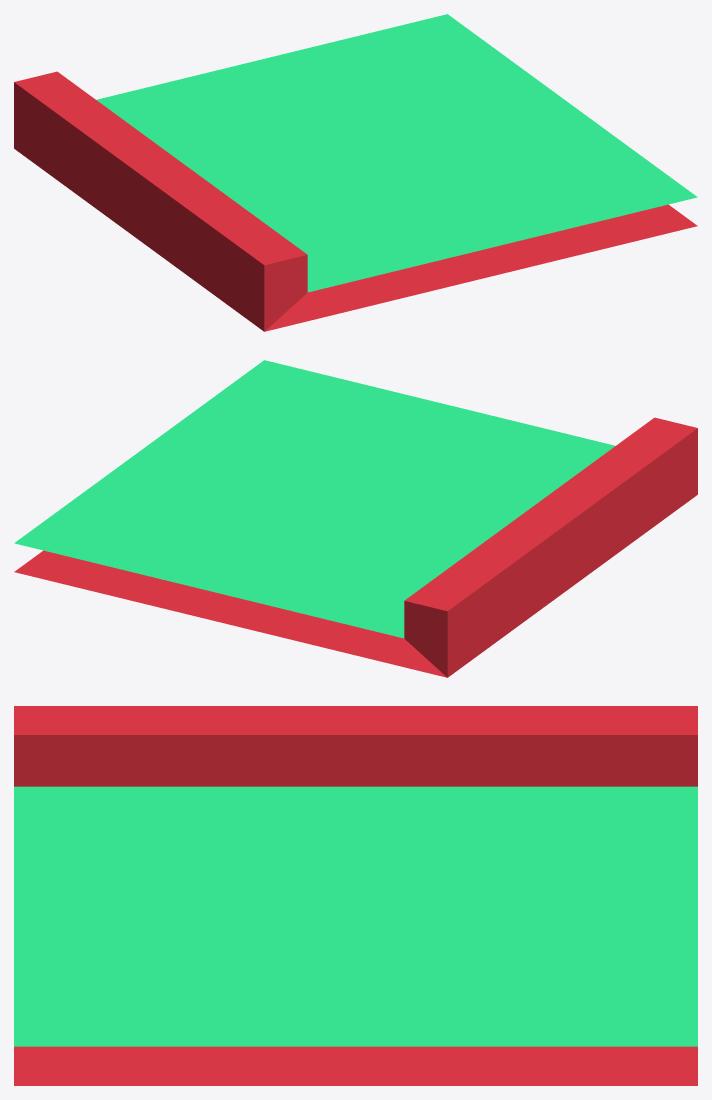
Rendered from side.fbx.
3 renders of one model, top to bottom at view 1: azimuth 30°, elevation 25°; view 2: azimuth 150°, elevation 25°; view 3: azimuth 270°, elevation 25°, orthographic. The views are drawn at different scales.
Visible parts, largest first — view 1: side; view 2: side; view 3: side.
Part boxes in pixels (left/top/right/bottom): side: left=14, top=14, right=697, bottom=331; side: left=14, top=360, right=697, bottom=677; side: left=14, top=706, right=697, bottom=1085.
Size of the model in its own units: 99.99 by 99.99 by 14.67.
